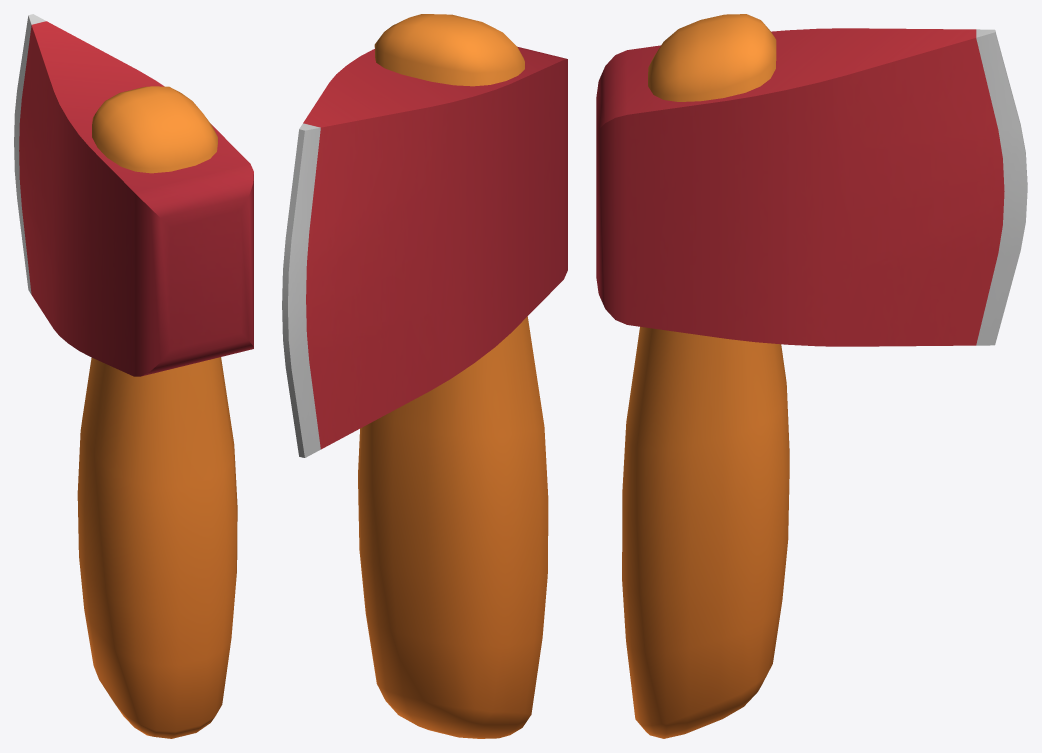
Rendered from axe_small.fbx.
3 views of the same model, side by side, from view 1: azimuth 30°, elevation 25°; view 2: azimuth 150°, elevation 25°; view 3: azimuth 270°, elevation 25° (orthographic). The views are drawn at different scales.
Parts seen in each view (by area): view 1: axe_small, head; view 2: head, axe_small; view 3: head, axe_small.
Boxes of the visible parts, box(x1,y1,x2,y2) form: axe_small: box(77, 86, 237, 738); head: box(14, 14, 253, 376); head: box(282, 46, 567, 457); axe_small: box(358, 14, 548, 738); head: box(596, 28, 1027, 346); axe_small: box(622, 14, 789, 738).
Size of the model in its own units: 0.472 by 1.18 by 2.11.
